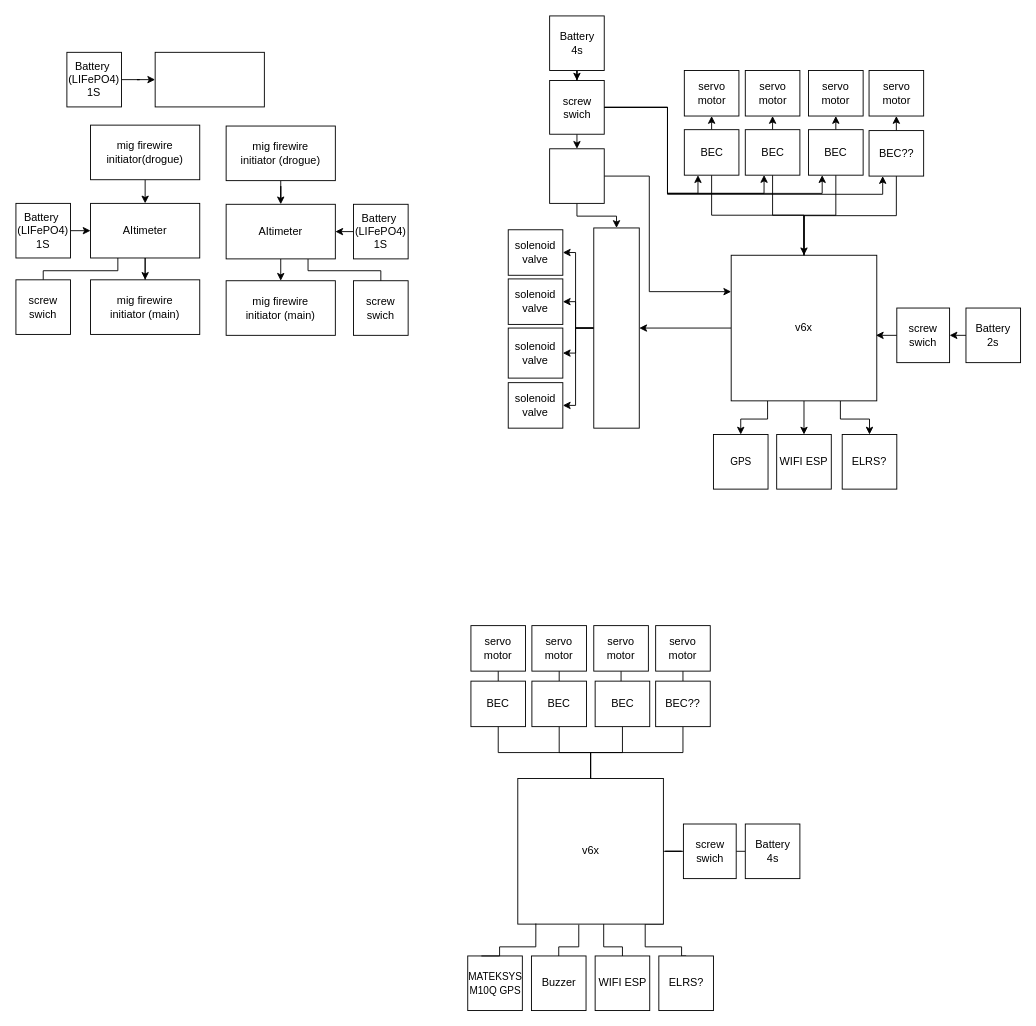
Some shapes in this 1036 by 1026 pixel diagram are drawn without their labels. Each missing label, with the box of its shape:
GPS Tracker: (154, 51, 264, 107)
Relay Module: (593, 227, 639, 428)
Step-up converter: (549, 148, 604, 203)
